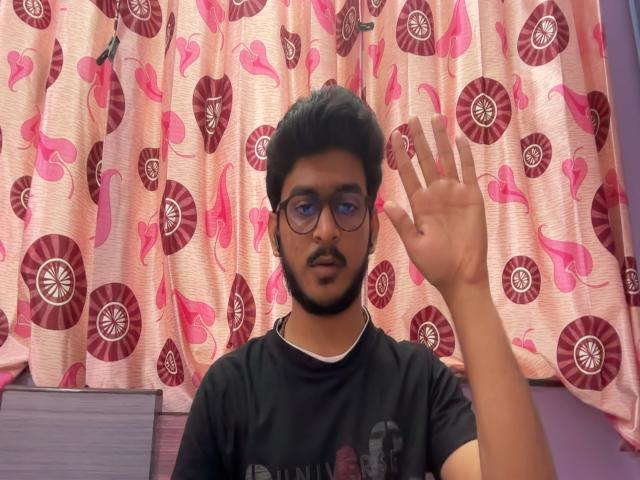Hello: (374, 108, 507, 291)
